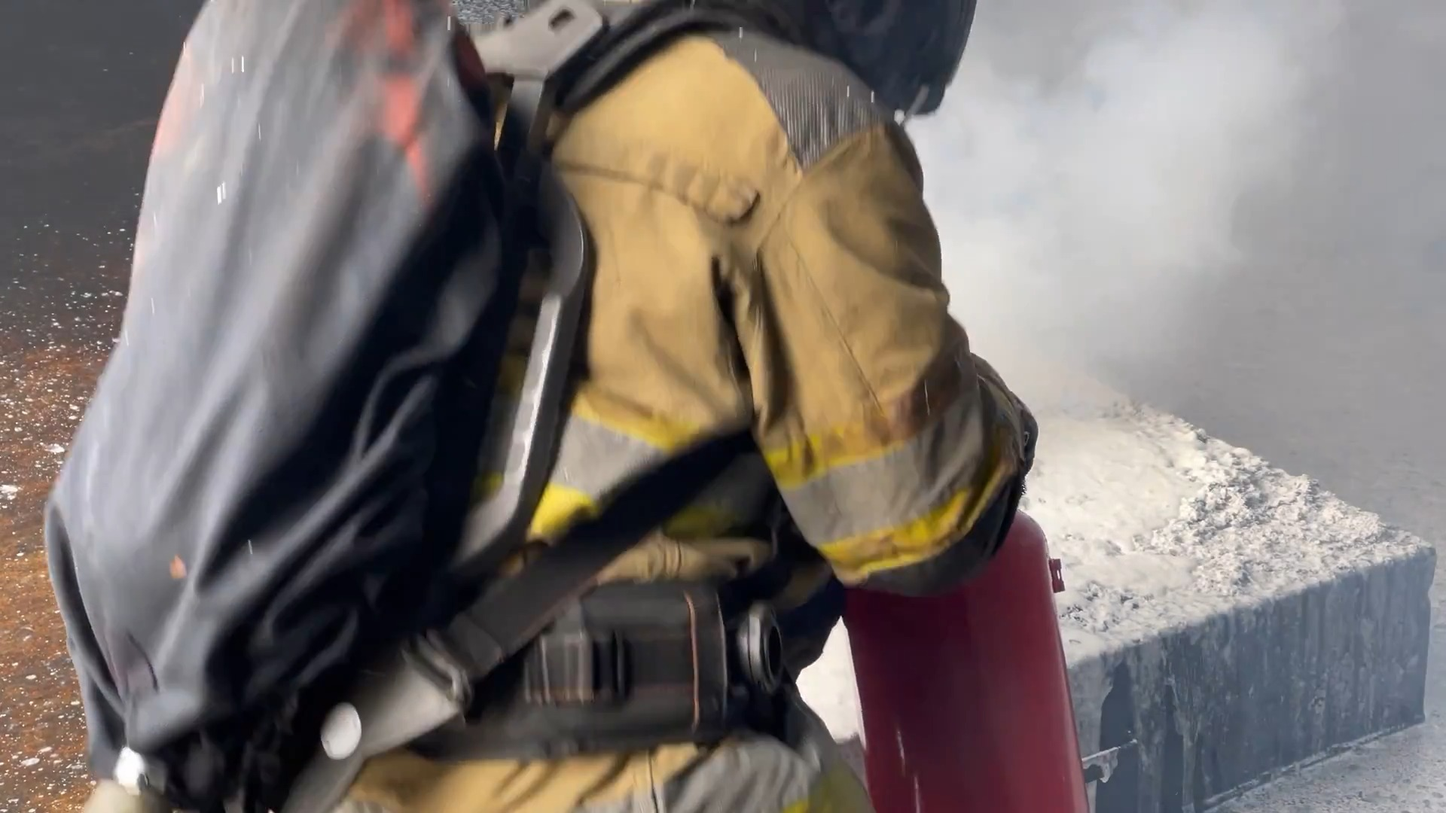smoke: (859, 23, 1437, 521)
